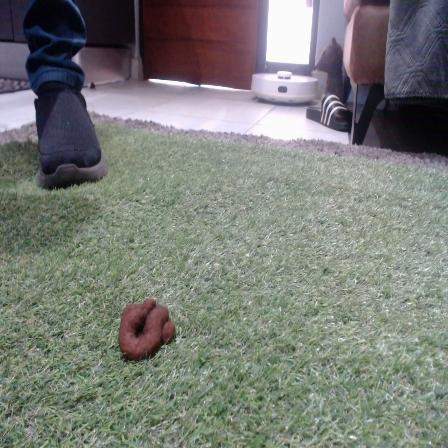dog-poop: (120, 298, 177, 359)
